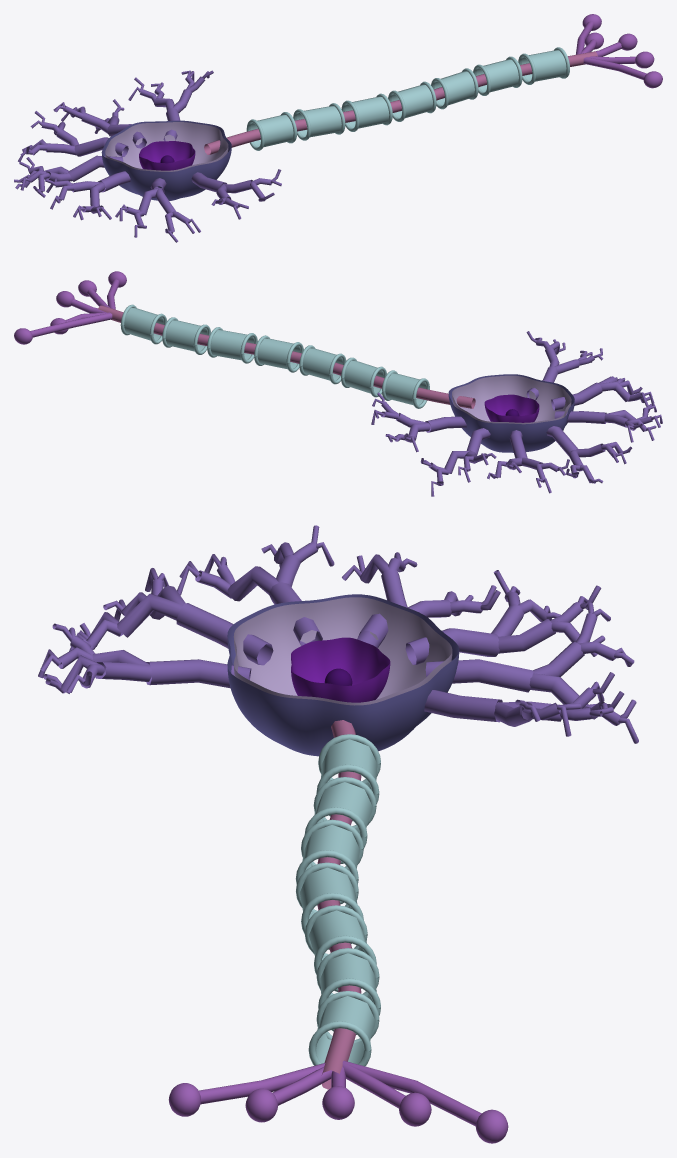
File: neuron.glb
The picture shows the model from 3 angles, top to bottom: view 1: azimuth 30°, elevation 25°; view 2: azimuth 150°, elevation 25°; view 3: azimuth 270°, elevation 25°; orthographic projection. The views are drawn at different scales.
Parts seen in each view (by area): view 1: dendrites, myelin, soma, membrane, terminals, axon, nucleus; view 2: dendrites, myelin, soma, membrane, terminals, axon, nucleus; view 3: dendrites, myelin, soma, membrane, terminals, nucleus, axon.
Boxes of the visible parts, bbox=[...] form: dendrites: bbox=[14, 70, 281, 242]; myelin: bbox=[246, 47, 569, 150]; soma: bbox=[105, 122, 228, 171]; membrane: bbox=[101, 120, 231, 200]; terminals: bbox=[576, 14, 662, 88]; axon: bbox=[204, 51, 597, 154]; nucleus: bbox=[139, 141, 195, 170]; dendrites: bbox=[371, 331, 662, 496]; myelin: bbox=[120, 304, 429, 408]; soma: bbox=[452, 375, 571, 424]; membrane: bbox=[448, 374, 574, 452]; terminals: bbox=[14, 271, 126, 344]; axon: bbox=[98, 305, 475, 408]; nucleus: bbox=[484, 394, 539, 422]; dendrites: bbox=[38, 525, 638, 743]; myelin: bbox=[295, 734, 380, 1066]; soma: bbox=[233, 597, 452, 705]; membrane: bbox=[227, 594, 459, 756]; terminals: bbox=[168, 1060, 508, 1143]; nucleus: bbox=[291, 637, 390, 702]; axon: bbox=[317, 720, 361, 1089].
Bounding box in the file's own units: 8.31 × 0.8882 × 3.68.
